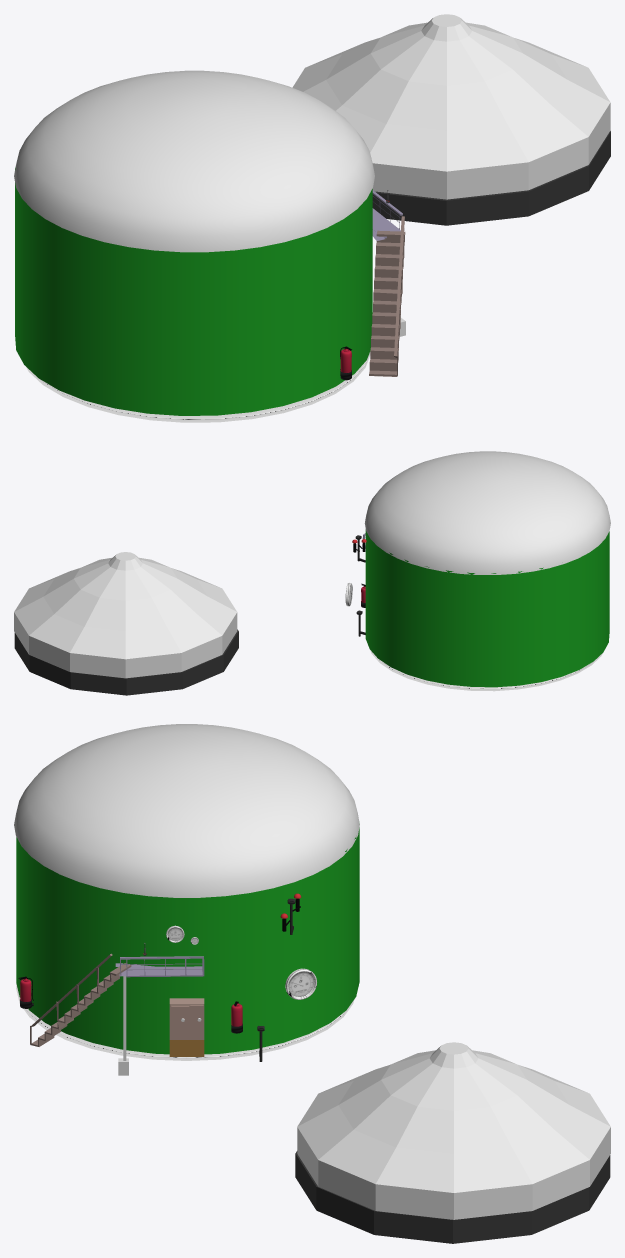
Rendered from digestormodel_reduced.glb.
3 renders of one model, top to bottom at view 1: azimuth 30°, elevation 25°; view 2: azimuth 150°, elevation 25°; view 3: azimuth 270°, elevation 25°, orthographic. The views are drawn at different scales.
Parts seen in each view (by area): view 1: Cylinder, Sphere, Cylinder.073, Cylinder.072, Cube, Cylinder.012, Cube.003; view 2: Cylinder, Sphere, Cylinder.073, Cylinder.072, Cylinder.012; view 3: Cylinder, Sphere, Cylinder.073, Cylinder.072, Cylinder.012, Cube, Cube.002, Cube.003, Cylinder.010.
Part boxes in pixels (bbox=[...]): Cylinder: bbox=[15, 167, 372, 415]; Sphere: bbox=[14, 70, 374, 252]; Cylinder.073: bbox=[292, 14, 610, 199]; Cylinder.072: bbox=[372, 131, 610, 225]; Cube: bbox=[369, 216, 405, 376]; Cylinder.012: bbox=[26, 352, 370, 422]; Cube.003: bbox=[372, 190, 402, 240]; Cylinder: bbox=[365, 529, 609, 687]; Sphere: bbox=[364, 451, 610, 574]; Cylinder.073: bbox=[14, 552, 237, 678]; Cylinder.072: bbox=[14, 629, 238, 695]; Cylinder.012: bbox=[370, 648, 605, 691]; Cylinder: bbox=[16, 827, 359, 1054]; Sphere: bbox=[14, 724, 359, 897]; Cylinder.073: bbox=[297, 1042, 610, 1219]; Cylinder.072: bbox=[295, 1151, 610, 1243]; Cylinder.012: bbox=[16, 984, 353, 1060]; Cube: bbox=[30, 953, 131, 1046]; Cube.002: bbox=[169, 998, 204, 1039]; Cube.003: bbox=[115, 956, 204, 977]; Cylinder.010: bbox=[285, 968, 316, 999].
Bounding box in the file's own units: 84.44 × 29.37 × 66.09.
24 materials, 2 textured.
